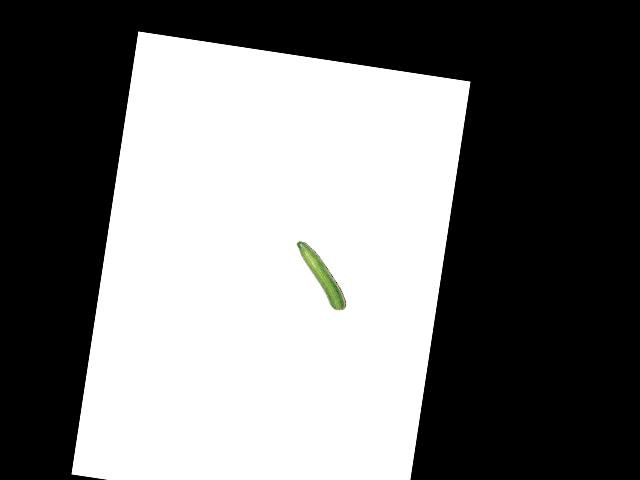cucumber: (288, 241, 354, 311)
